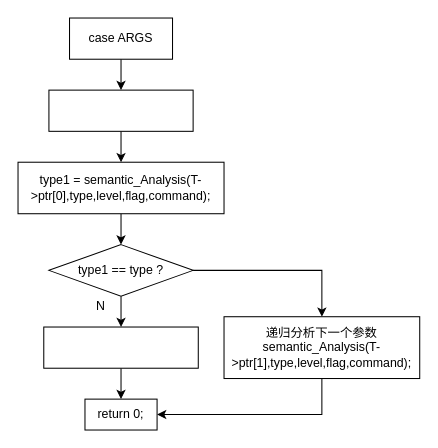
Image size: 438x448. Some labels were removed from this diagram. Each missing label, with the centre of its shape:
"函数调用的参数类型不匹配" goes at pixel 120 347.
"获得下一个参数的类型" goes at pixel 120 110.
